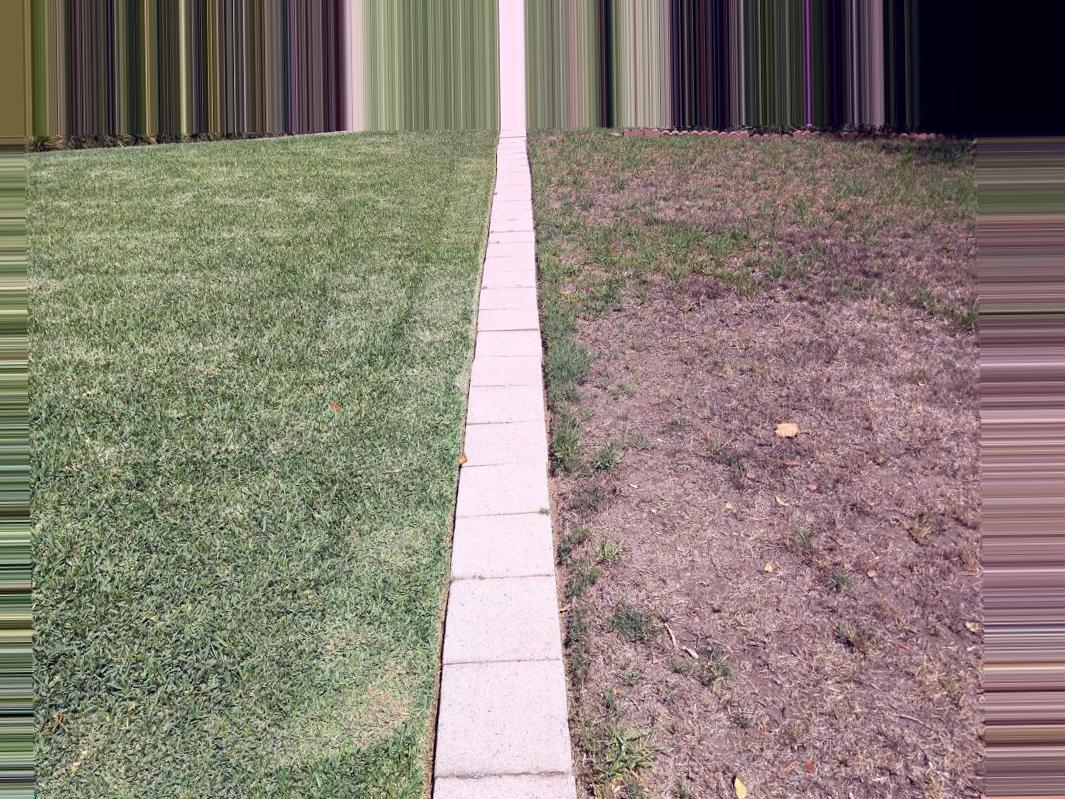patch: (635, 557, 914, 690), (608, 427, 887, 523), (664, 697, 838, 799), (592, 309, 791, 396), (646, 160, 855, 236), (842, 309, 951, 410)
